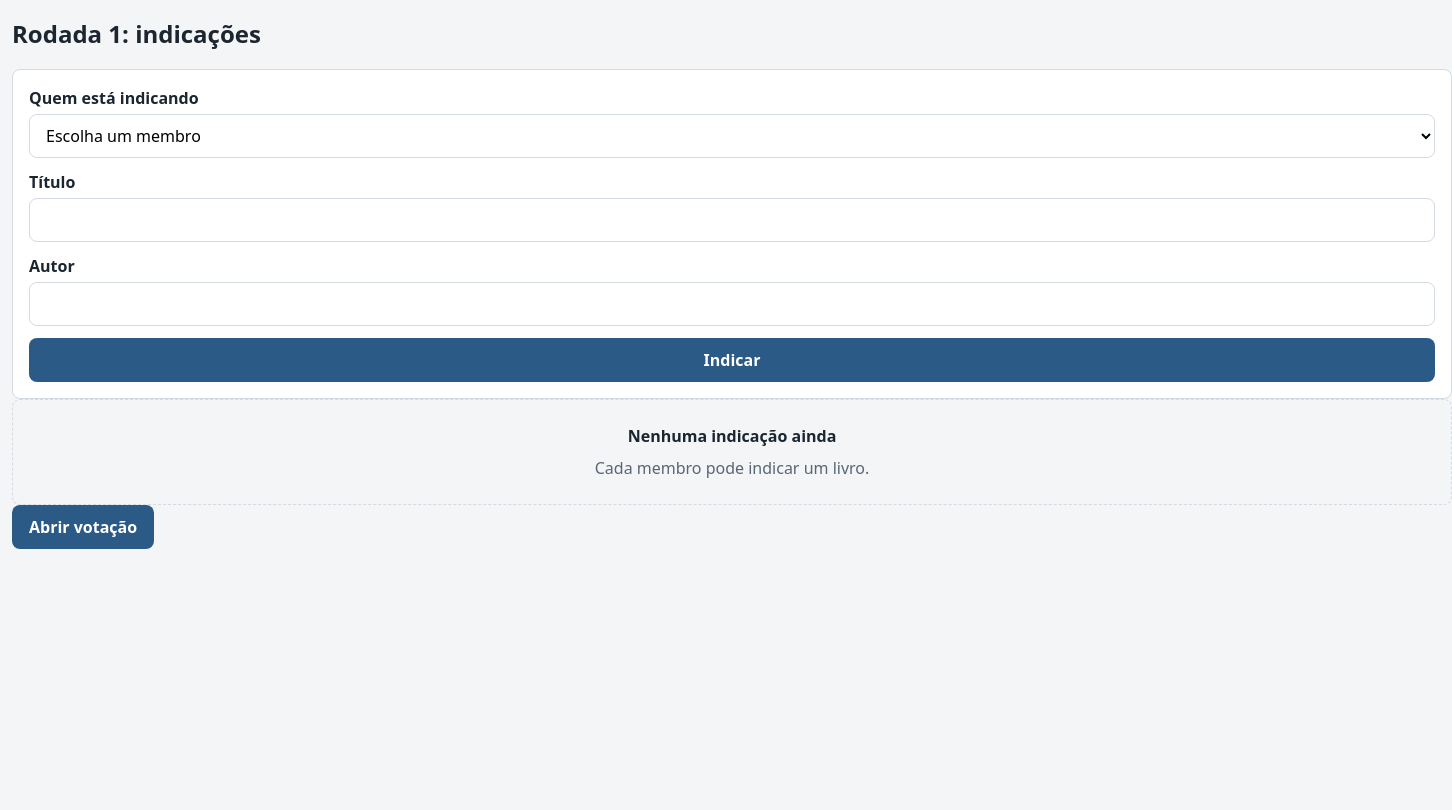
Scenario: NominationStep › busca a capa pelo título e pelo autor ao indicar (R15)
The width and height of the screenshot is (1452, 810).
Select "Ana" in the dropdown labelled "Quem está indicando" at (732, 136), box 29,114 -> 1435,158
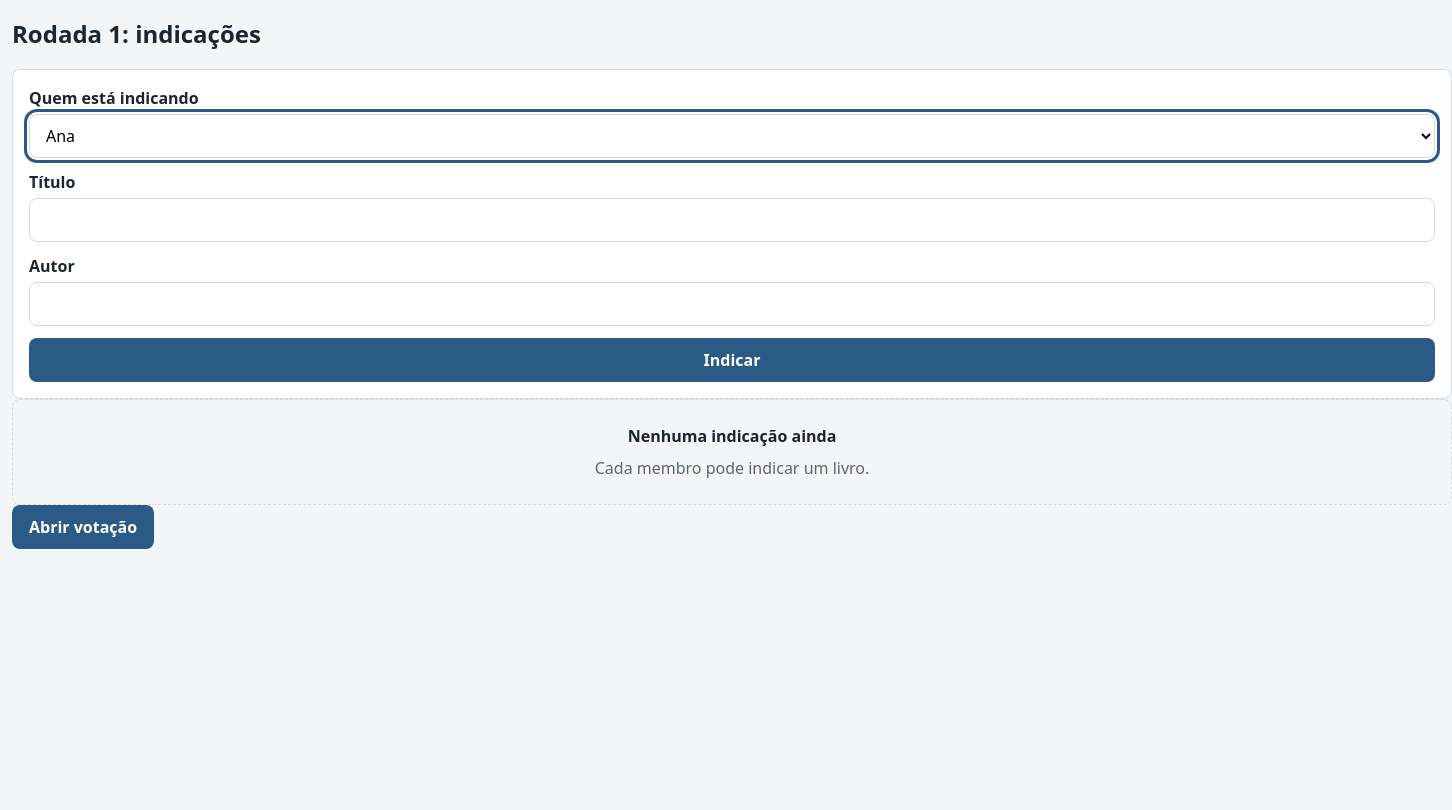
Type "Dom Casmurro" into the field labelled "Título".
click(732, 220); type("Dom Casmurro")  # box 29,198 -> 1435,242
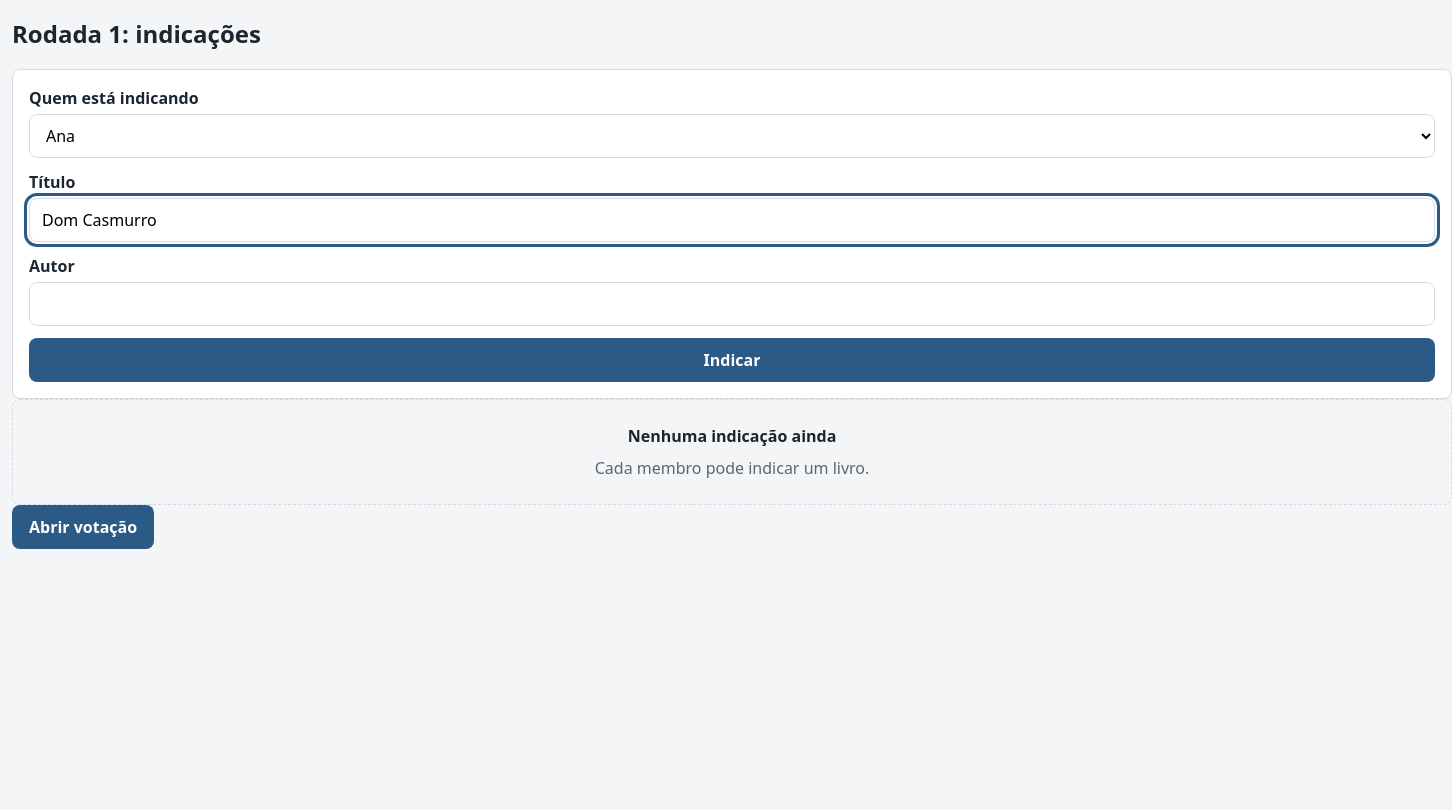
Type "Machado de Assis" into the field labelled "Autor".
click(732, 304); type("Machado de Assis")  # box 29,282 -> 1435,326
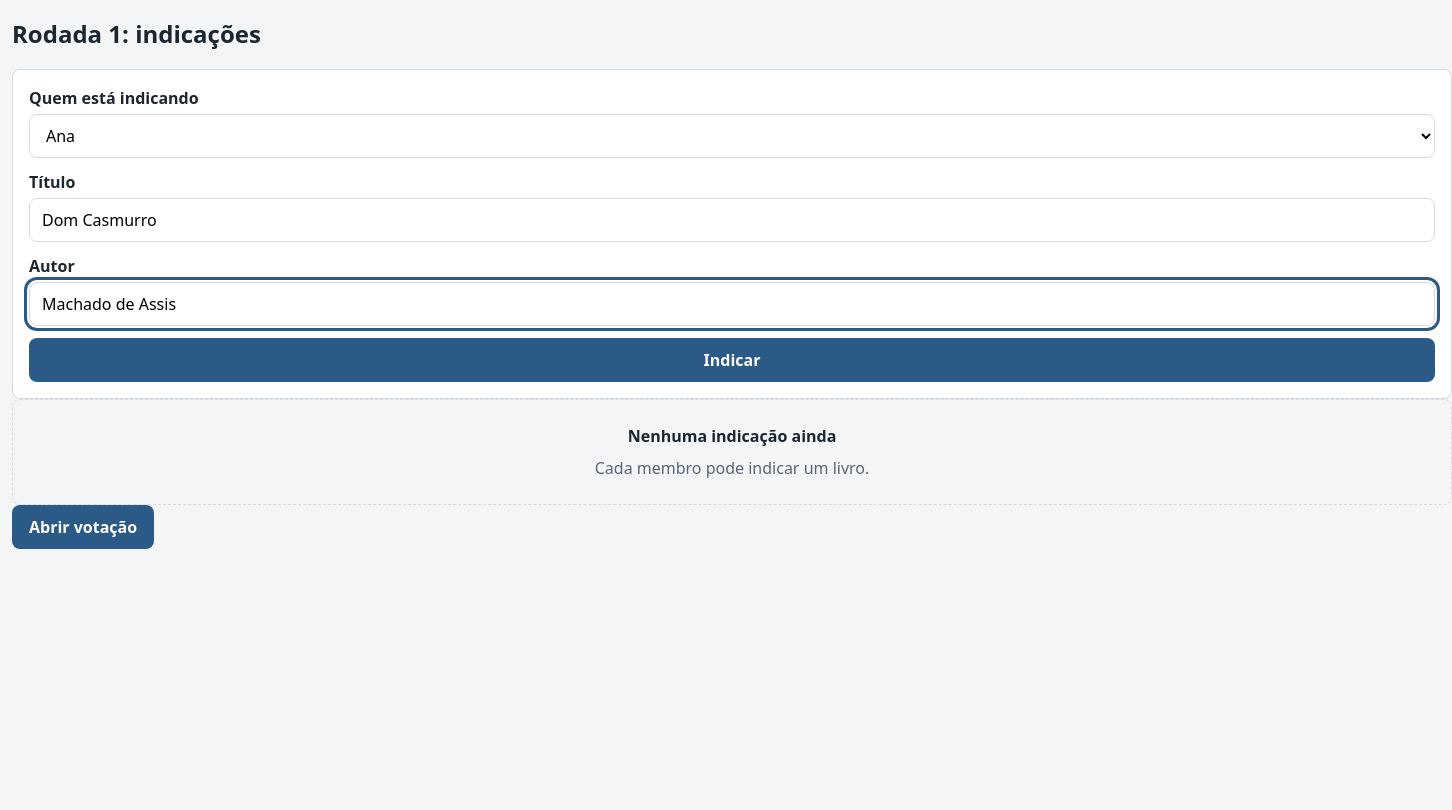
Click the button "Indicar".
click(732, 360)  # box 29,338 -> 1435,382
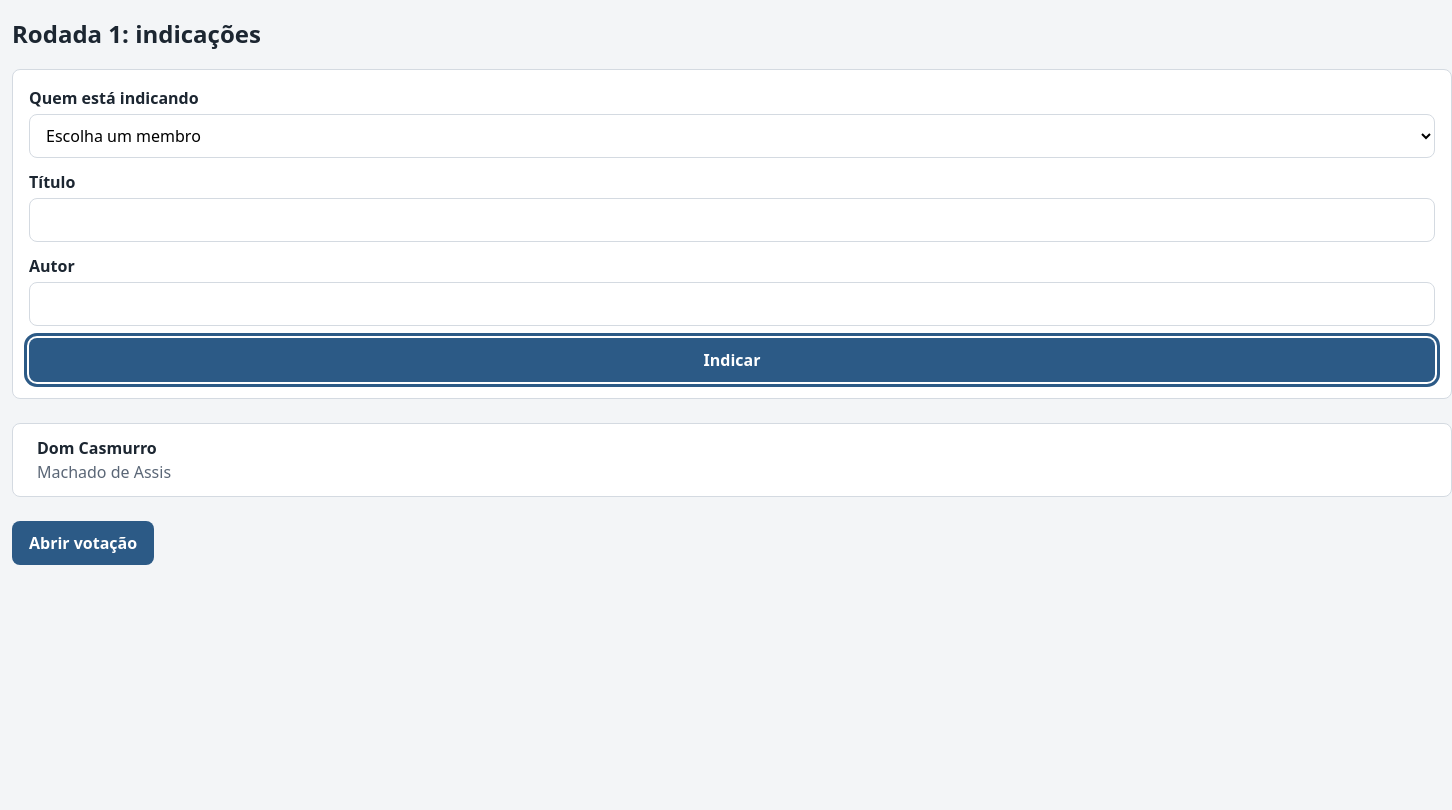
expect the text "Dom Casmurro" is shown: met, box 37,437 -> 157,459
